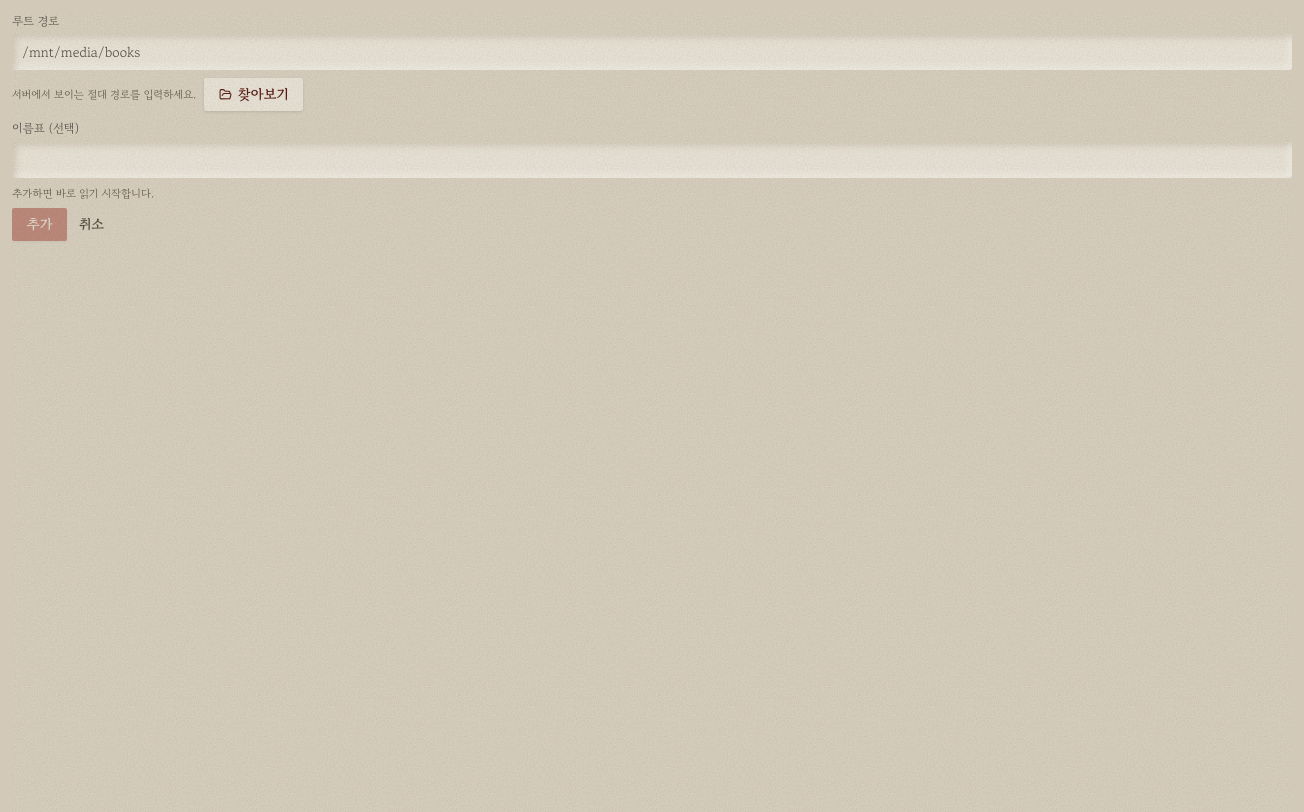
Test case: AddRootForm › fills the path field from the picker instead of submitting
Click the button with test id "browse-folders" at (254,95), box [204, 78, 303, 111]
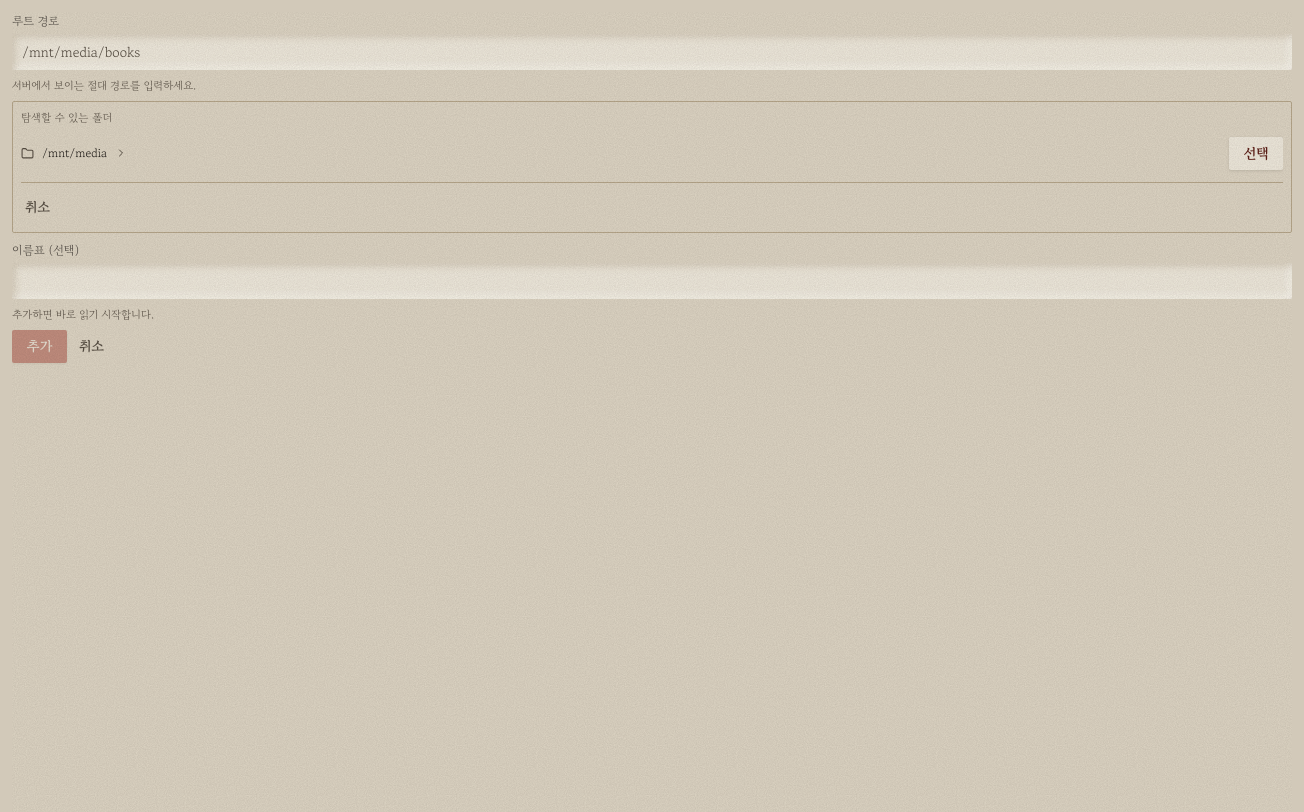
Click the button "/mnt/media" at (74,153), box [21, 145, 1221, 162]
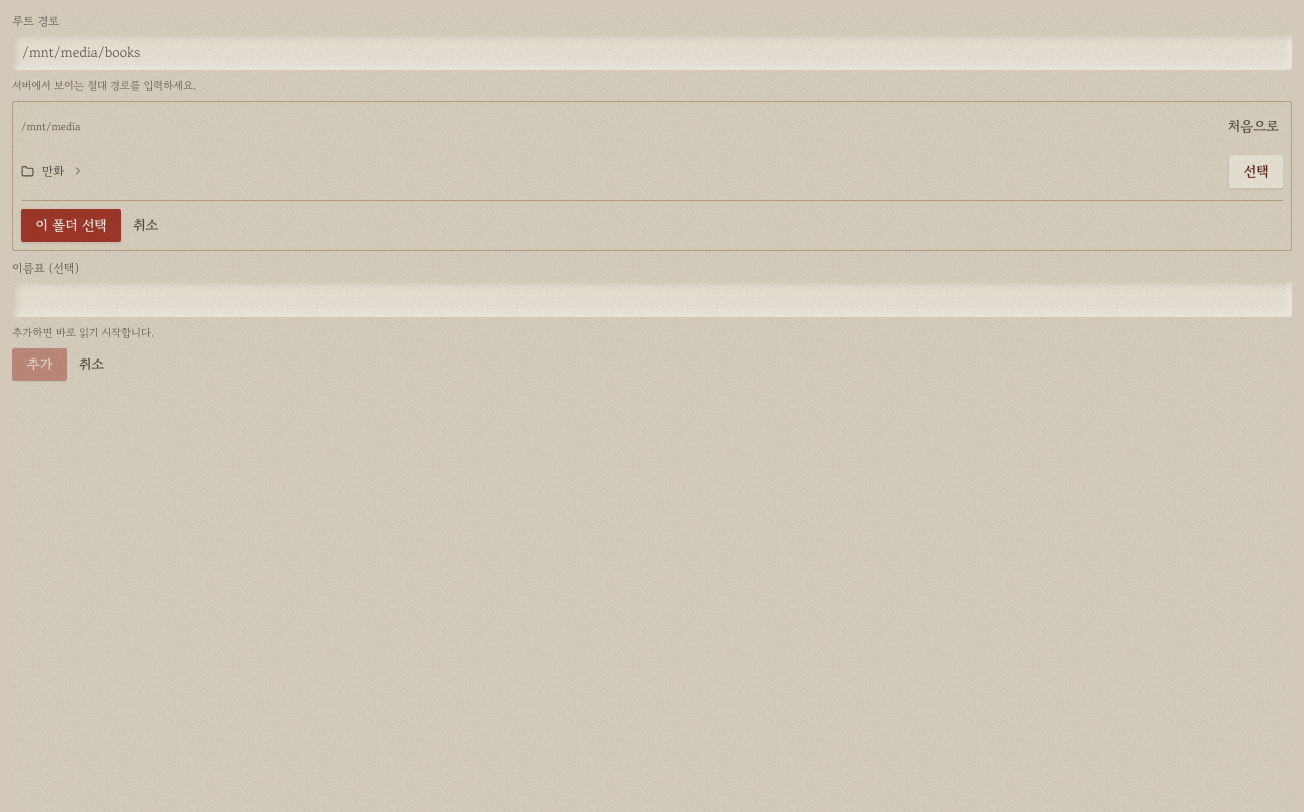
Click the button with test id "folder-picker-choose-current" at (71,225), box [21, 209, 121, 242]
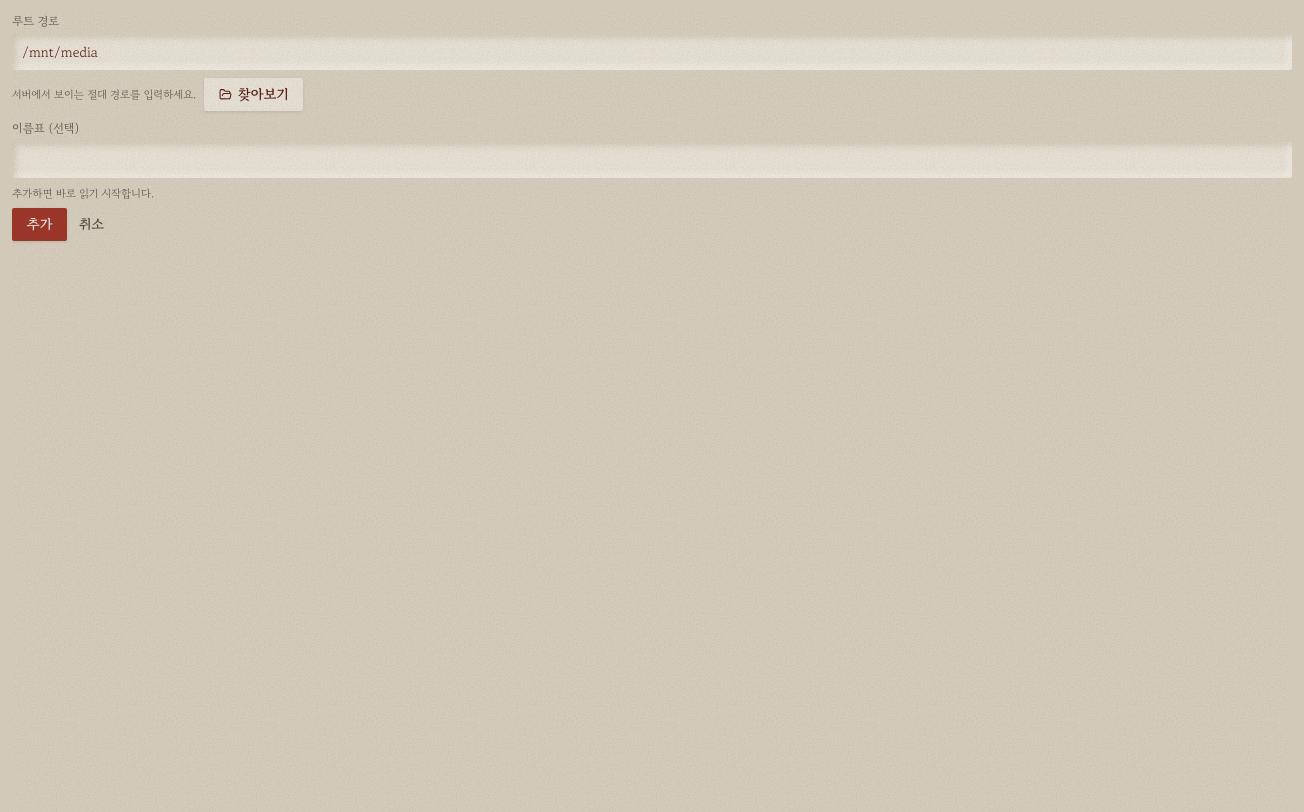
expect the field labelled "루트 경로" holds "/mnt/media": met, box [12, 34, 1292, 70]
expect the element with test id "folder-picker" is gone: met
expect the button "추가" is enabled: met, box [12, 208, 67, 241]
